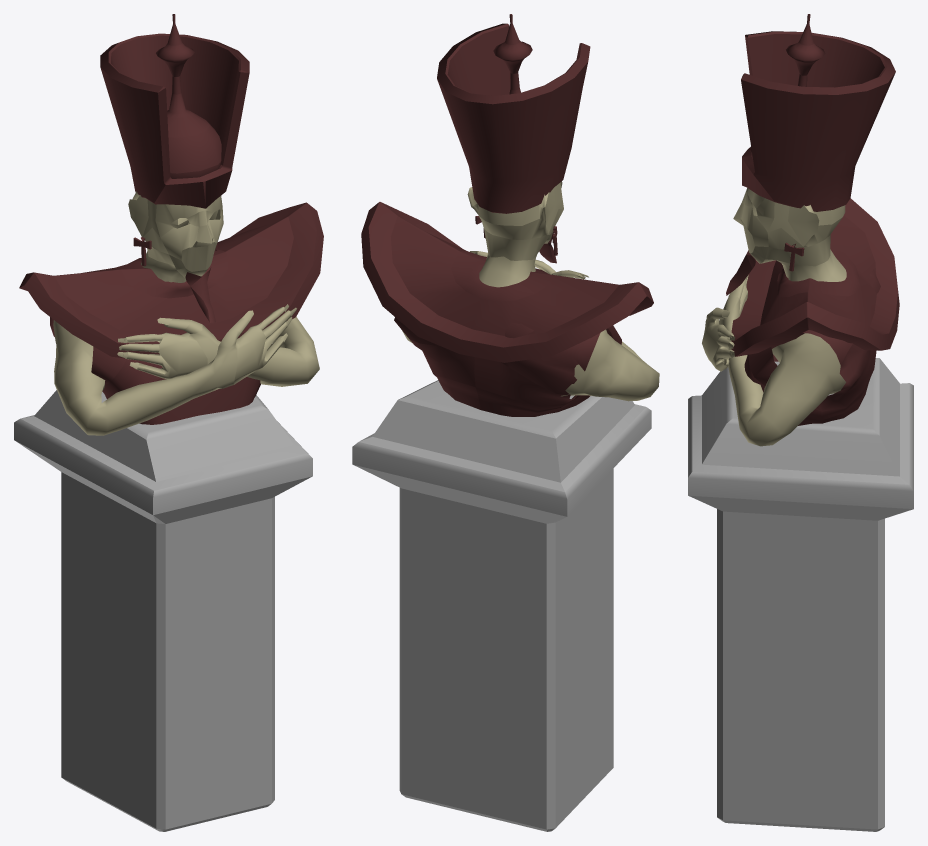
The model's file is P_BUSTO_SETH_LOD01.fbx.
The picture shows the model from 3 angles, left to right: view 1: azimuth 30°, elevation 25°; view 2: azimuth 150°, elevation 25°; view 3: azimuth 270°, elevation 25°; orthographic projection.
Parts seen in each view (by area): view 1: Seth_Posado; view 2: Seth_Posado; view 3: Seth_Posado.
Part boxes in pixels (x1,y1,x2,y2): Seth_Posado: (14, 14, 323, 831); Seth_Posado: (352, 14, 659, 831); Seth_Posado: (688, 14, 913, 831).
Bounding box in the file's own units: 1.47 × 3.82 × 1.
